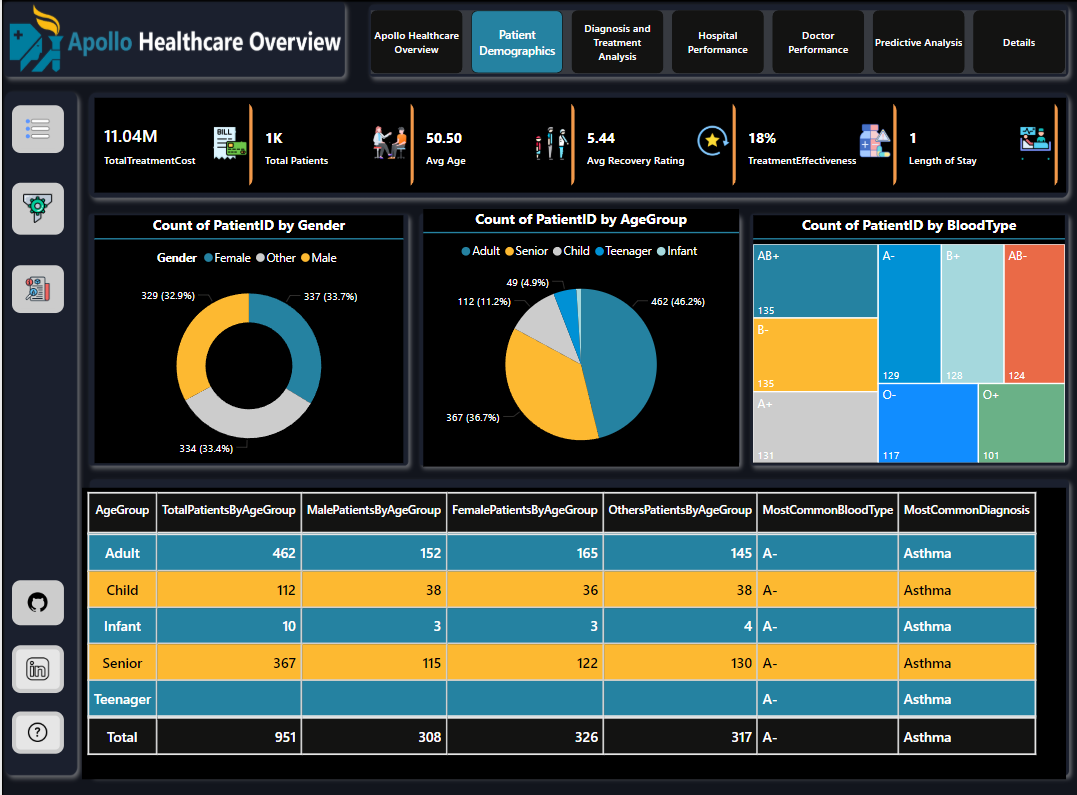

The page's visual inventory and layout, read from the dashboard file:
{"tool":"powerbi","page":{"name":"Patient Demographics","canvas":[1245,934],"ordinal":1},"visuals":[{"type":"image","box":[11,122.1,60,55],"z":0,"group":"g1"},{"type":"pieChart","fields":{"Category":["Healthcare 1.AgeGroup"],"Y":["CountNonNull(Healthcare 1.PatientID)"]},"box":[486.7,242.6,364.7,297.4],"z":0},{"type":"image","box":[11,211.9,59.9,59.9],"z":1000,"group":"g1"},{"type":"donutChart","fields":{"Category":["Healthcare 1.Gender"],"Y":["CountNonNull(Healthcare 1.PatientID)"]},"box":[106.4,250.4,356.8,286],"z":1000},{"type":"treemap","fields":{"Group":["Healthcare 1.BloodType"],"Values":["CountNonNull(Healthcare 1.PatientID)"]},"box":[868.6,250.4,360,286.4],"z":2000},{"type":"image","box":[11,306.7,59.9,55],"z":2000,"group":"g1"},{"type":"cardVisual","fields":{"Data":["All Measures.TotalTreatmentCost","All Measures.Total Patients","All Measures.Avg Age","All Measures.Avg Recovery Rating","All Measures.TreatmentEffectiveness","All Measures.Length of Stay"]},"box":[106.4,114.2,1122.1,109.6],"z":3000},{"type":"image","box":[11,745.4,59.9,55],"z":3000,"group":"g1"},{"type":"group","id":"g1","title":"Menu Bar","box":[11,122.1,61,749.6],"z":4000},{"type":"image","box":[11,670.9,59.9,51.8],"z":4000,"group":"g1"},{"type":"pageNavigator","box":[425.7,12.5,802.9,73.6],"z":5000},{"type":"image","box":[11,823.1,59.9,48.6],"z":5000,"group":"g1"},{"type":"tableEx","fields":{"Values":["Healthcare 1.AgeGroup","Measures 2.TotalPatientsByAgeGroup","Measures 2.MalePatientsByAgeGroup","Measures 2.FemalePatientsByAgeGroup","Measures 2.OthersPatientsByAgeGroup","Measures 2.MostCommonBloodType","Measures 2.MostCommonDiagnosis"]},"box":[92.7,564.3,1136.5,336.4],"z":6000}]}

Visuals, with their boxes in screenshot pixels (x1, y1, x2, y2), scaled from the page's 1245x934 canvas onto the 1077x795 screenshot:
image: left=10, top=104, right=61, bottom=151
pieChart - Healthcare 1.AgeGroup x CountNonNull(Healthcare 1.PatientID): left=421, top=206, right=737, bottom=460
image: left=10, top=180, right=61, bottom=231
donutChart - Healthcare 1.Gender x CountNonNull(Healthcare 1.PatientID): left=92, top=213, right=401, bottom=457
treemap - Healthcare 1.BloodType x CountNonNull(Healthcare 1.PatientID): left=751, top=213, right=1063, bottom=457
image: left=10, top=261, right=61, bottom=308
cardVisual - All Measures.TotalTreatmentCost x All Measures.Total Patients: left=92, top=97, right=1063, bottom=190
image: left=10, top=634, right=61, bottom=681
"Menu Bar" group: left=10, top=104, right=62, bottom=742
image: left=10, top=571, right=61, bottom=615
pageNavigator: left=368, top=11, right=1063, bottom=73
image: left=10, top=701, right=61, bottom=742
tableEx - Healthcare 1.AgeGroup x Measures 2.TotalPatientsByAgeGroup: left=80, top=480, right=1063, bottom=767
